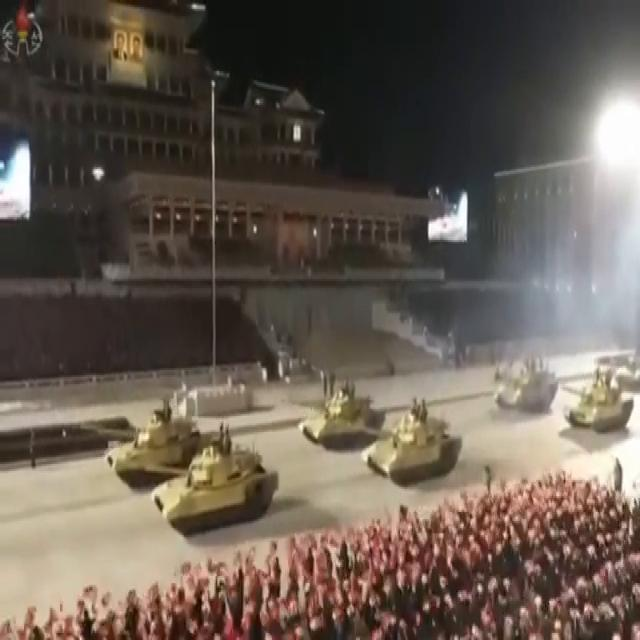north tank: (152, 420, 291, 544), (100, 398, 201, 492), (363, 400, 473, 483), (294, 380, 394, 467), (564, 366, 640, 448), (501, 356, 563, 430)
